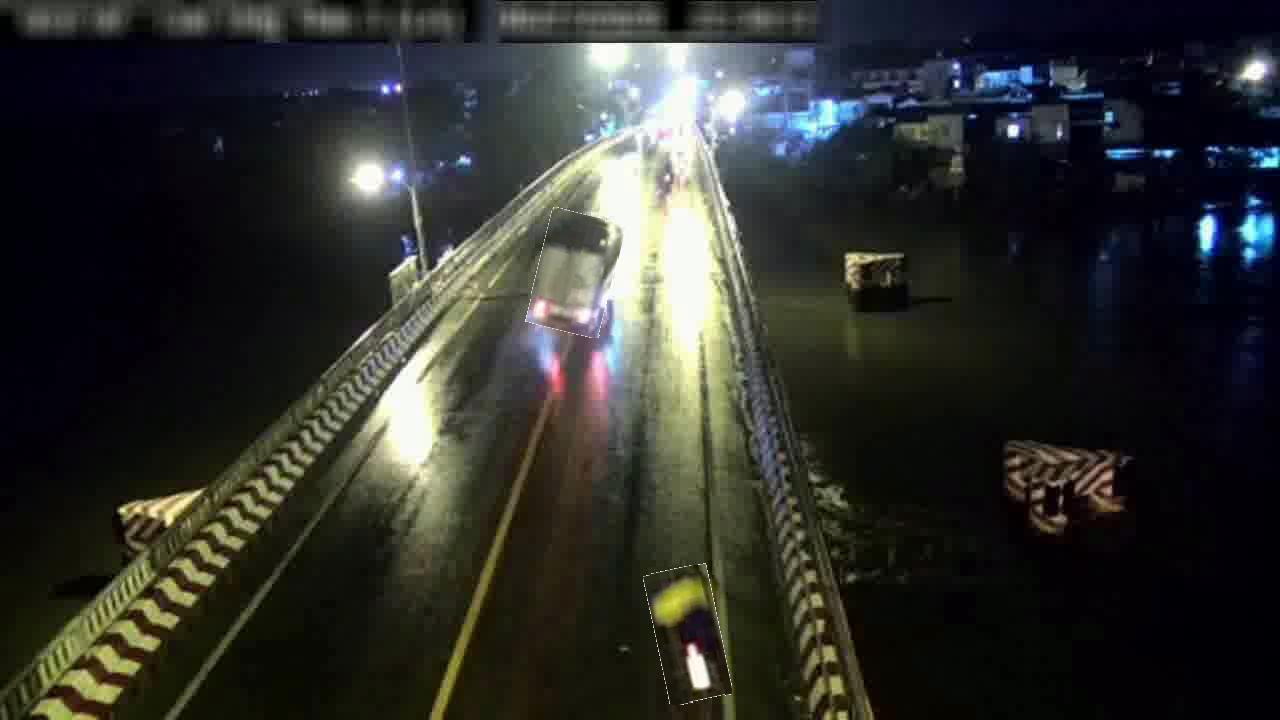8: (532, 211, 620, 336)
motorbike: (650, 566, 727, 704)
